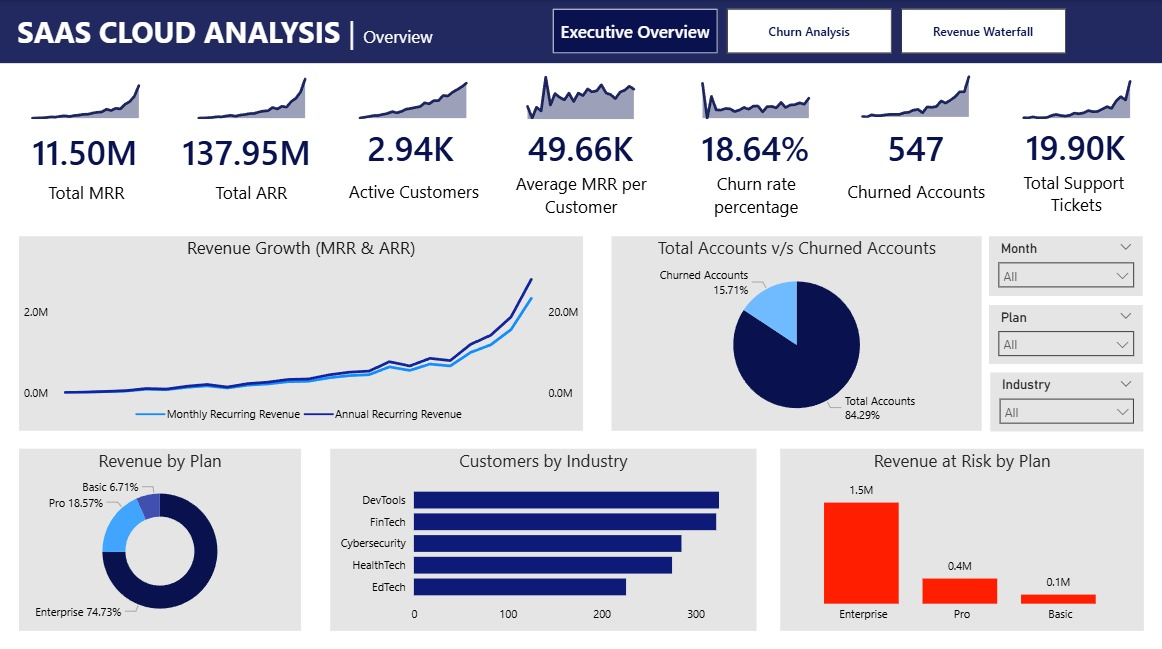

What the dashboard file says about the page in this screenshot:
{"tool":"powerbi","page":{"name":"Executive Overview","canvas":[1280,720],"ordinal":0},"visuals":[{"type":"shape","box":[0,0,1280,69.3],"z":0},{"type":"cardVisual","title":"Total MRR","fields":{"Data":["Sum(VW_EXECUTIVE_SUMMARY.TOTAL_SUPPORT_TICKETS)"]},"box":[1087.2,118.2,190.3,85.8],"z":0,"group":"g7"},{"type":"cardVisual","title":"Total MRR","fields":{"Data":["Sum(VW_REVENUE_KPIS.TOTAL_MRR)"]},"box":[9.4,119,169.2,93.3],"z":0,"group":"g1"},{"type":"cardVisual","title":"Total MRR","fields":{"Data":["Sum(VW_REVENUE_KPIS.AVERAGE_MRR_PER_CUSTOMER)"]},"box":[543.6,119.4,190.3,85.8],"z":0,"group":"g4"},{"type":"cardVisual","title":"Total MRR","fields":{"Data":["VW_CHURN_RATE.Weighted Churn %"]},"box":[735.2,119.4,190.3,85.8],"z":0,"group":"g5"},{"type":"cardVisual","title":"Total MRR","fields":{"Data":["Sum(VW_CHURN_RATE.CHURNED_ACCOUNTS)"]},"box":[910.6,119.4,190.3,85.8],"z":0,"group":"g6"},{"type":"cardVisual","title":"Total MRR","fields":{"Data":["Sum(VW_REVENUE_KPIS.ACTIVE_CUSTOMERS)"]},"box":[357,120,190.3,85.8],"z":0,"group":"g3"},{"type":"cardVisual","title":"Total MRR","fields":{"Data":["Sum(VW_REVENUE_KPIS.TOTAL_ARR)"]},"box":[181.6,124.4,181.6,82.1],"z":0,"group":"g2"},{"type":"textbox","box":[14.9,8.7,483.9,59.7],"z":1000},{"type":"textbox","box":[1086.9,183,191.6,65.9],"z":1000,"group":"g7"},{"type":"textbox","box":[544.1,183.6,191.6,65.9],"z":1000,"group":"g4"},{"type":"textbox","box":[735.7,183.6,191.6,65.9],"z":1000,"group":"g5"},{"type":"textbox","box":[911.2,192,191.6,38.6],"z":1000,"group":"g6"},{"type":"textbox","box":[362.2,192.4,186.4,36.5],"z":1000,"group":"g3"},{"type":"textbox","box":[222.6,192.8,109.5,36.1],"z":1000,"group":"g2"},{"type":"textbox","box":[41,192.9,109.5,36.1],"z":1000,"group":"g1"},{"type":"group","id":"g1","title":"Group 1","box":[9.4,119,169.2,109.9],"z":2000},{"type":"group","id":"g2","title":"Group 1","box":[181.6,124.4,181.6,104.5],"z":3000},{"type":"group","id":"g3","title":"Group 1","box":[357,120,191.6,108.9],"z":4000},{"type":"group","id":"g4","title":"Group 1","box":[543.6,119.4,192.1,130.1],"z":5000},{"type":"group","id":"g5","title":"Group 1","box":[735.2,119.4,191.6,130.6],"z":6000},{"type":"group","id":"g6","title":"Group 1","box":[910.6,119.4,191.6,110.7],"z":7000},{"type":"group","id":"g7","title":"Group 1","box":[1086.9,118.2,191.6,130.8],"z":8000},{"type":"areaChart","fields":{"Category":["VW_REVENUE_KPIS.MONTH"],"Y":["Sum(VW_REVENUE_KPIS.TOTAL_MRR)"]},"box":[22.4,69.7,146.8,65.9],"z":9000},{"type":"areaChart","fields":{"Category":["VW_REVENUE_KPIS.MONTH"],"Y":["Sum(VW_REVENUE_KPIS.TOTAL_ARR)"]},"box":[204,69.7,146.8,65.9],"z":10000},{"type":"areaChart","fields":{"Category":["VW_REVENUE_KPIS.MONTH"],"Y":["Sum(VW_REVENUE_KPIS.ACTIVE_CUSTOMERS)"]},"box":[381.9,69.7,146.8,65.9],"z":11000},{"type":"areaChart","fields":{"Category":["VW_REVENUE_KPIS.MONTH"],"Y":["Sum(VW_REVENUE_KPIS.AVERAGE_MRR_PER_CUSTOMER)"]},"box":[566,69.7,146.8,65.9],"z":12000},{"type":"areaChart","fields":{"Category":["VW_CHURN_RATE.MONTH"],"Y":["Sum(VW_CHURN_RATE.CHURN_RATE_PCT)"]},"box":[757.6,69.7,146.8,65.9],"z":13000},{"type":"areaChart","fields":{"Category":["VW_CHURN_RATE.MONTH"],"Y":["Sum(VW_CHURN_RATE.CHURNED_ACCOUNTS)"]},"box":[933,68.4,146.8,65.9],"z":14000},{"type":"areaChart","fields":{"Category":["VW_REVENUE_KPIS.MONTH"],"Y":["Sum(VW_REVENUE_KPIS.TOTAL_SUPPORT_TICKETS)"]},"box":[1109.6,69.7,146.8,65.9],"z":15000},{"type":"lineChart","title":"Revenue Growth (MRR & ARR) ","fields":{"Category":["VW_REVENUE_KPIS.MONTH"],"Y":["Sum(VW_REVENUE_KPIS.TOTAL_MRR)"],"Y2":["Sum(VW_REVENUE_KPIS.TOTAL_ARR)"]},"box":[22.4,260,619.5,214],"z":16000},{"type":"donutChart","title":"Revenue by Plan","fields":{"Y":["Sum(VW_EXECUTIVE_SUMMARY.TOTAL_MRR)"],"Category":["VW_EXECUTIVE_SUMMARY.PLAN_TIER"]},"box":[22.4,492.6,309.7,200.3],"z":17000},{"type":"clusteredBarChart","title":"Customers by Industry","fields":{"Category":["VW_EXECUTIVE_SUMMARY.INDUSTRY"],"Y":["Sum(VW_EXECUTIVE_SUMMARY.CUSTOMERS)"]},"box":[363.2,492.6,467.7,200.3],"z":18000},{"type":"clusteredColumnChart","title":"Revenue at Risk by Plan","fields":{"Y":["VW_EXECUTIVE_SUMMARY.Revenue At Risk"],"Category":["VW_EXECUTIVE_SUMMARY.PLAN_TIER"]},"box":[857.1,492.6,399.3,200.3],"z":19000},{"type":"pieChart","title":"Total Accounts v/s Churned Accounts","fields":{"Y":["Sum(VW_CHURN_RATE.TOTAL_ACCOUNTS)","Sum(VW_CHURN_RATE.CHURNED_ACCOUNTS)"]},"box":[673,260,406.8,214],"z":20000},{"type":"slicer","fields":{"Values":["VW_REVENUE_KPIS.YEAR_MONTH"]},"box":[1087.2,260,169.2,65.9],"z":21000},{"type":"slicer","fields":{"Values":["VW_EXECUTIVE_SUMMARY.PLAN_TIER"]},"box":[1087.2,334.6,169.2,64.7],"z":22000},{"type":"slicer","fields":{"Values":["VW_EXECUTIVE_SUMMARY.INDUSTRY"]},"box":[1088.5,409.3,167.9,64.7],"z":23000},{"type":"pageNavigator","box":[607.9,9.6,564,49.4],"z":23001}]}

Visuals, with their boxes in screenshot pixels (x1, y1, x2, y2), scaled from the page's 1280x720 canvas onto the 1162x649 screenshot:
shape: pyautogui.locateOnScreen(0, 0, 1161, 62)
"Total MRR" cardVisual: pyautogui.locateOnScreen(987, 107, 1160, 184)
"Total MRR" cardVisual: pyautogui.locateOnScreen(9, 107, 162, 191)
"Total MRR" cardVisual: pyautogui.locateOnScreen(493, 108, 666, 185)
"Total MRR" cardVisual: pyautogui.locateOnScreen(667, 108, 840, 185)
"Total MRR" cardVisual: pyautogui.locateOnScreen(827, 108, 999, 185)
"Total MRR" cardVisual: pyautogui.locateOnScreen(324, 108, 497, 186)
"Total MRR" cardVisual: pyautogui.locateOnScreen(165, 112, 330, 186)
textbox: pyautogui.locateOnScreen(14, 8, 453, 62)
textbox: pyautogui.locateOnScreen(987, 165, 1161, 224)
textbox: pyautogui.locateOnScreen(494, 165, 668, 225)
textbox: pyautogui.locateOnScreen(668, 165, 842, 225)
textbox: pyautogui.locateOnScreen(827, 173, 1001, 208)
textbox: pyautogui.locateOnScreen(329, 173, 498, 206)
textbox: pyautogui.locateOnScreen(202, 174, 301, 206)
textbox: pyautogui.locateOnScreen(37, 174, 137, 206)
"Group 1" group: pyautogui.locateOnScreen(9, 107, 162, 206)
"Group 1" group: pyautogui.locateOnScreen(165, 112, 330, 206)
"Group 1" group: pyautogui.locateOnScreen(324, 108, 498, 206)
"Group 1" group: pyautogui.locateOnScreen(493, 108, 668, 225)
"Group 1" group: pyautogui.locateOnScreen(667, 108, 841, 225)
"Group 1" group: pyautogui.locateOnScreen(827, 108, 1001, 207)
"Group 1" group: pyautogui.locateOnScreen(987, 107, 1161, 224)
areaChart - VW_REVENUE_KPIS.MONTH x Sum(VW_REVENUE_KPIS.TOTAL_MRR): pyautogui.locateOnScreen(20, 63, 154, 122)
areaChart - VW_REVENUE_KPIS.MONTH x Sum(VW_REVENUE_KPIS.TOTAL_ARR): pyautogui.locateOnScreen(185, 63, 318, 122)
areaChart - VW_REVENUE_KPIS.MONTH x Sum(VW_REVENUE_KPIS.ACTIVE_CUSTOMERS): pyautogui.locateOnScreen(347, 63, 480, 122)
areaChart - VW_REVENUE_KPIS.MONTH x Sum(VW_REVENUE_KPIS.AVERAGE_MRR_PER_CUSTOMER): pyautogui.locateOnScreen(514, 63, 647, 122)
areaChart - VW_CHURN_RATE.MONTH x Sum(VW_CHURN_RATE.CHURN_RATE_PCT): pyautogui.locateOnScreen(688, 63, 821, 122)
areaChart - VW_CHURN_RATE.MONTH x Sum(VW_CHURN_RATE.CHURNED_ACCOUNTS): pyautogui.locateOnScreen(847, 62, 980, 121)
areaChart - VW_REVENUE_KPIS.MONTH x Sum(VW_REVENUE_KPIS.TOTAL_SUPPORT_TICKETS): pyautogui.locateOnScreen(1007, 63, 1141, 122)
"Revenue Growth (MRR & ARR) " lineChart: pyautogui.locateOnScreen(20, 234, 583, 427)
"Revenue by Plan" donutChart: pyautogui.locateOnScreen(20, 444, 301, 625)
"Customers by Industry" clusteredBarChart: pyautogui.locateOnScreen(330, 444, 754, 625)
"Revenue at Risk by Plan" clusteredColumnChart: pyautogui.locateOnScreen(778, 444, 1141, 625)
"Total Accounts v/s Churned Accounts" pieChart: pyautogui.locateOnScreen(611, 234, 980, 427)
slicer - VW_REVENUE_KPIS.YEAR_MONTH: pyautogui.locateOnScreen(987, 234, 1141, 294)
slicer - VW_EXECUTIVE_SUMMARY.PLAN_TIER: pyautogui.locateOnScreen(987, 302, 1141, 360)
slicer - VW_EXECUTIVE_SUMMARY.INDUSTRY: pyautogui.locateOnScreen(988, 369, 1141, 427)
pageNavigator: pyautogui.locateOnScreen(552, 9, 1064, 53)
